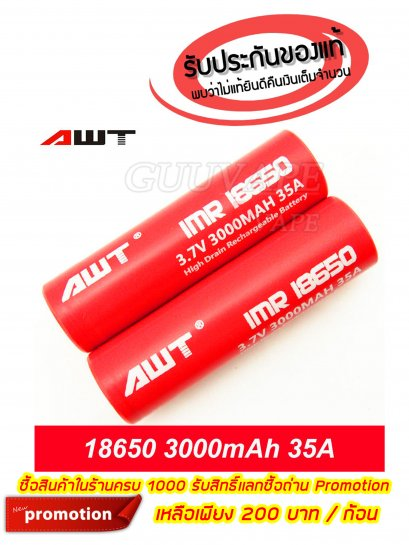Battery: (84, 190, 382, 426), (37, 124, 334, 355)
